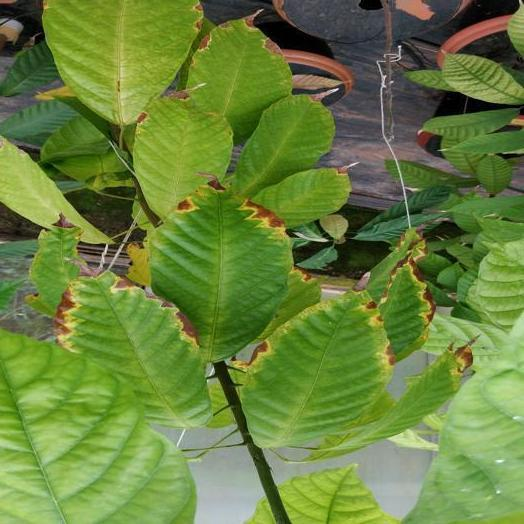Potassium: (240, 273, 395, 446), (151, 173, 292, 361), (55, 257, 210, 427), (183, 10, 291, 143), (381, 252, 435, 360)
